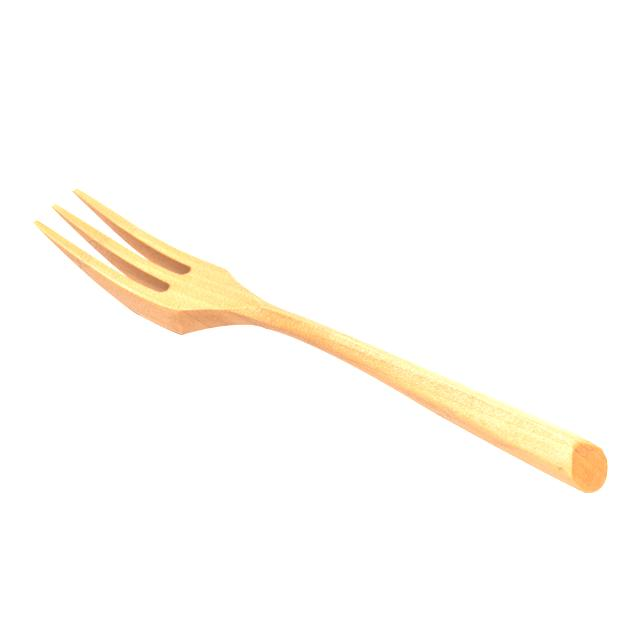Garpu: (23, 169, 622, 533)
